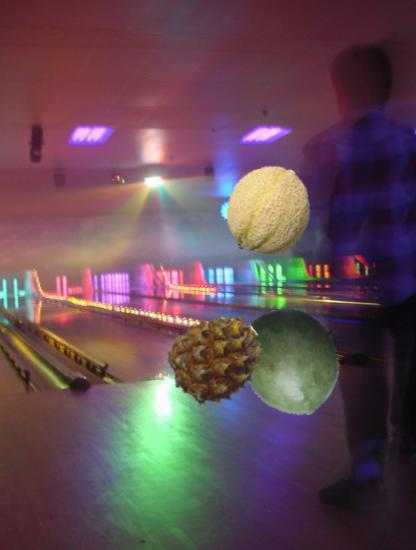Cantaloupe: (222, 164, 316, 258)
Mango: (238, 306, 349, 417)
Pineapple: (168, 311, 265, 408)
